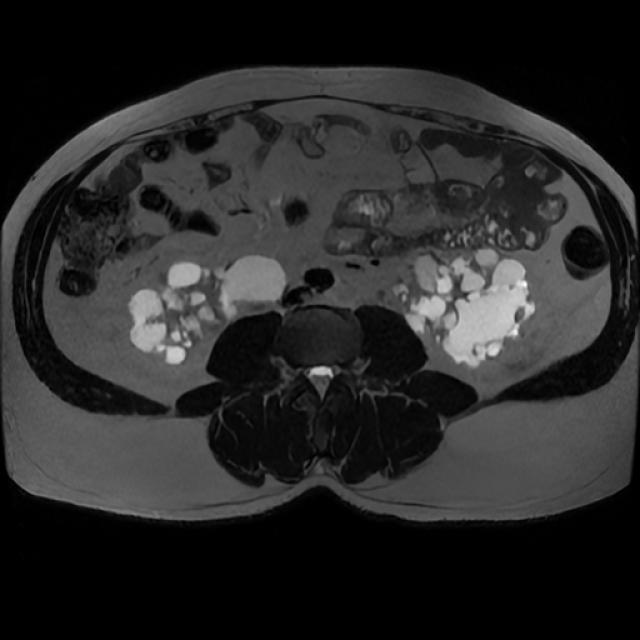sag: (126, 254, 286, 365)
sol: (393, 248, 536, 368)
